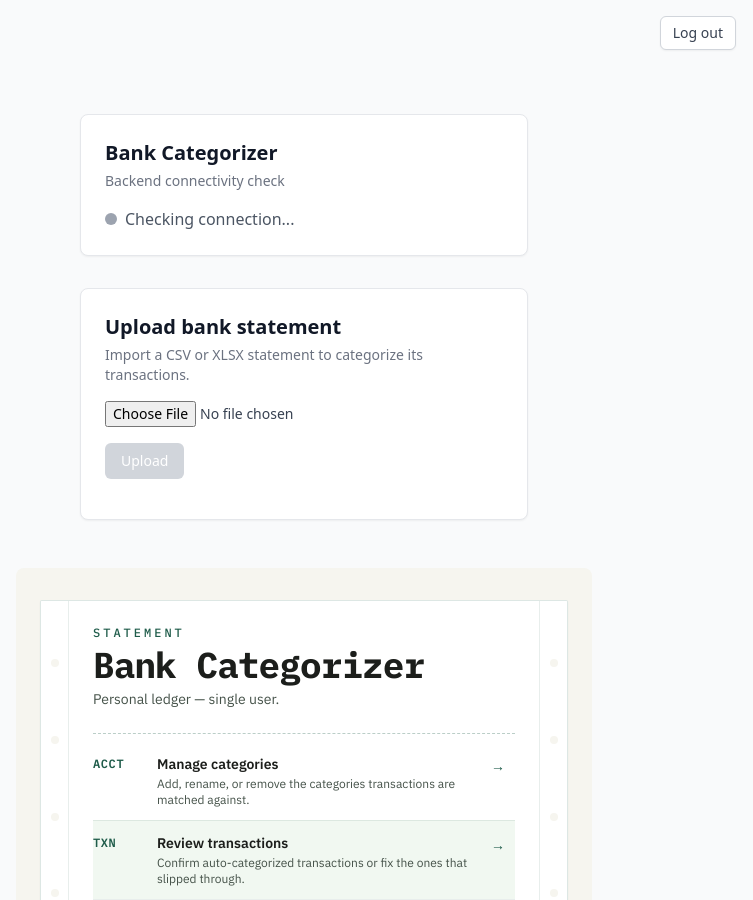
Test: App authentication gating (FE-11) › logging out clears the token and returns to the login screen
Step 1. Click the button "Log out" → (698, 33), box [660,16,736,50]
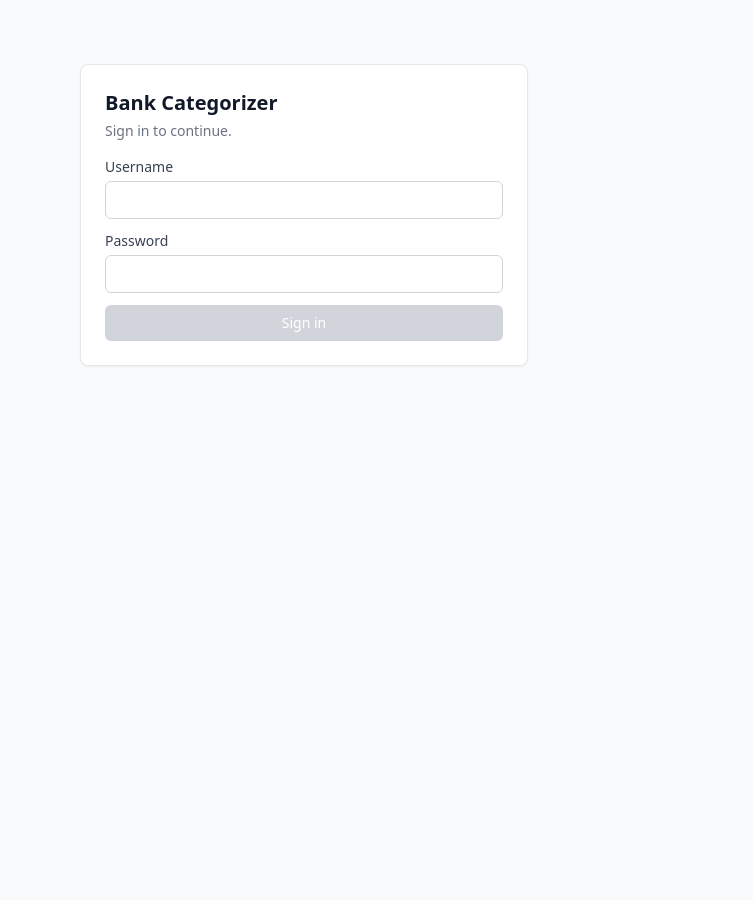
Now the button "Sign in" is shown, box [105,305,503,341]
